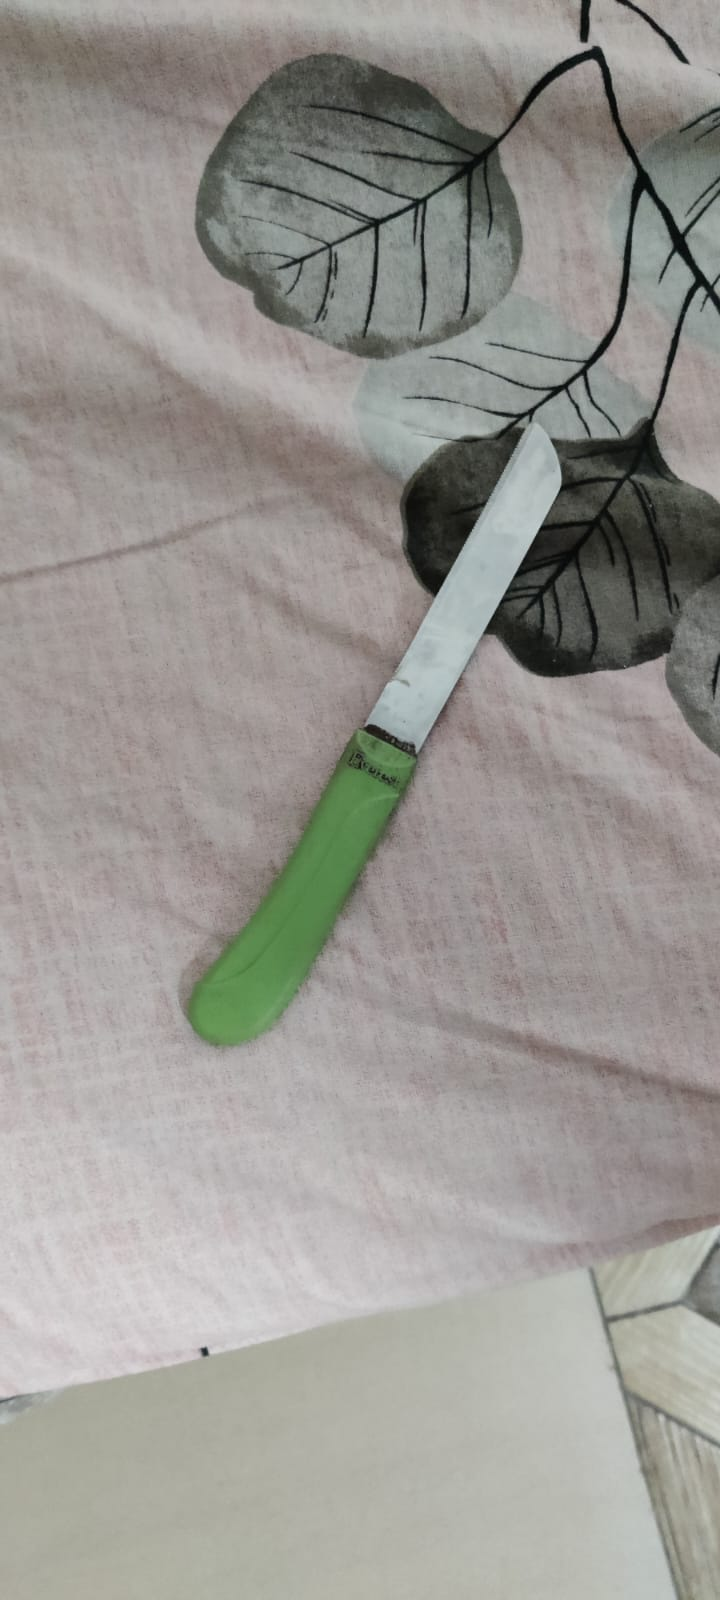knife: (197, 445, 553, 1045)
